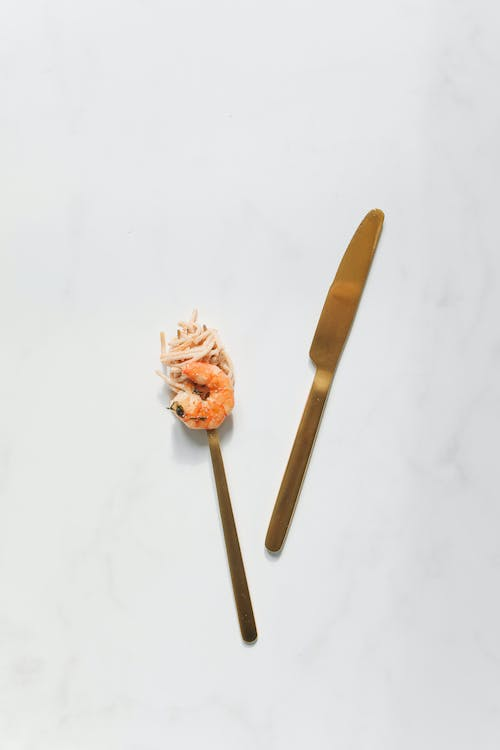knife: (263, 205, 386, 554)
